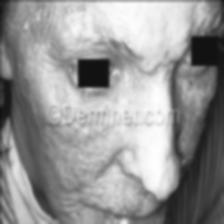Unclassified: (60, 140, 108, 190), (173, 82, 195, 161), (17, 2, 49, 52)
